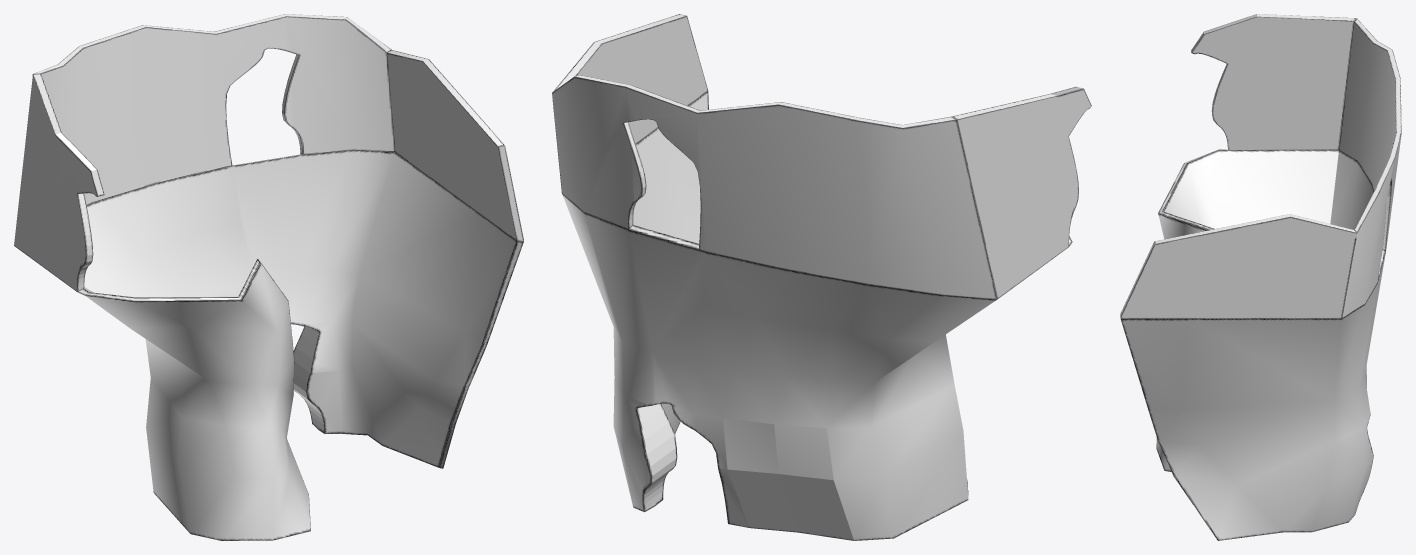
The model's file is home.FBX.
The picture shows the model from 3 angles, left to right: view 1: azimuth 30°, elevation 25°; view 2: azimuth 150°, elevation 25°; view 3: azimuth 270°, elevation 25°; orthographic projection. The views are drawn at different scales.
Visible parts, largest first — view 1: wallsStreet001, walls; view 2: wallsStreet001, walls; view 3: wallsStreet001, walls.
Part boxes in pixels (box(x1,y1,x2,y2)): wallsStreet001: box(77, 150, 523, 540); walls: box(14, 14, 523, 291); wallsStreet001: box(562, 91, 1072, 540); walls: box(552, 14, 1091, 299); wallsStreet001: box(1120, 149, 1385, 540); walls: box(1120, 14, 1401, 318).
Size of the model in its own units: 491 by 502 by 339.
